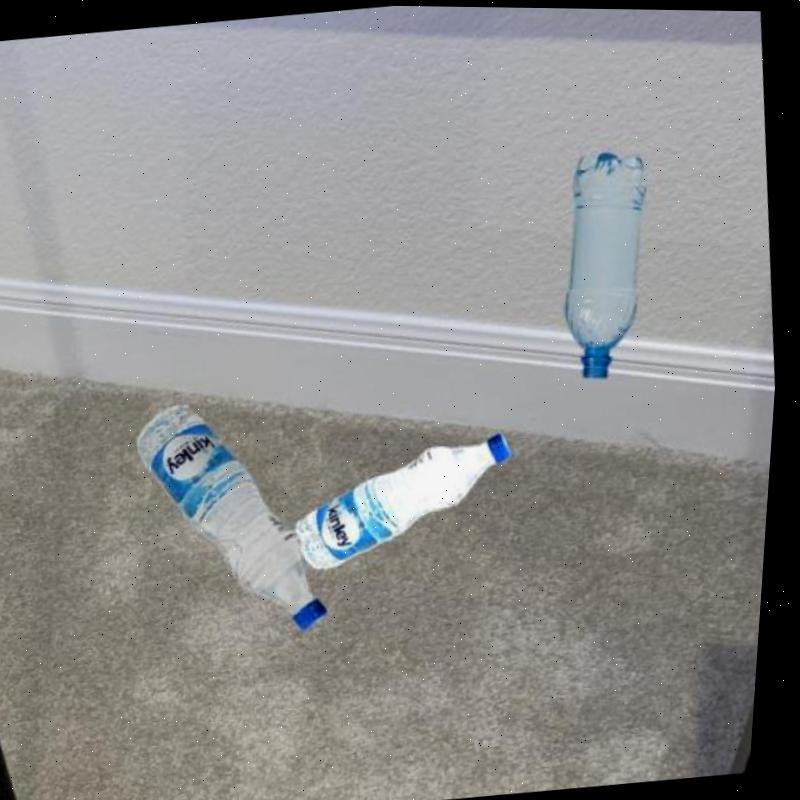botella: (127, 387, 349, 643), (291, 428, 528, 571), (548, 143, 669, 381)
